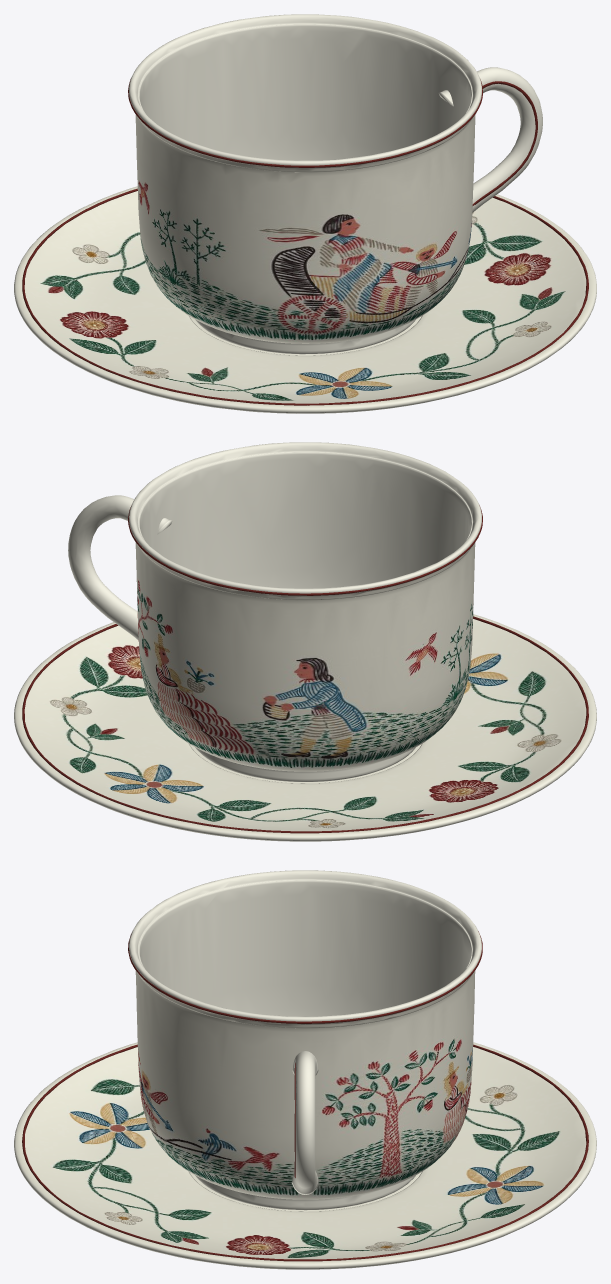
The model's file is coffee-cup-mobile.glb.
3 views of the same model, one above another, from view 1: azimuth 30°, elevation 25°; view 2: azimuth 150°, elevation 25°; view 3: azimuth 270°, elevation 25° (orthographic).
Parts seen in each view (by area): view 1: Coffee Cup and Saucer - Combined; view 2: Coffee Cup and Saucer - Combined; view 3: Coffee Cup and Saucer - Combined.
Part boxes in pixels (x1,y1,x2,y2): Coffee Cup and Saucer - Combined: (14,14,596,413); Coffee Cup and Saucer - Combined: (14,442,596,841); Coffee Cup and Saucer - Combined: (14,870,596,1269).
Size of the model in its own units: 0.1548 by 0.0677 by 0.1548.
Materials: 5 (3 with a texture image).
